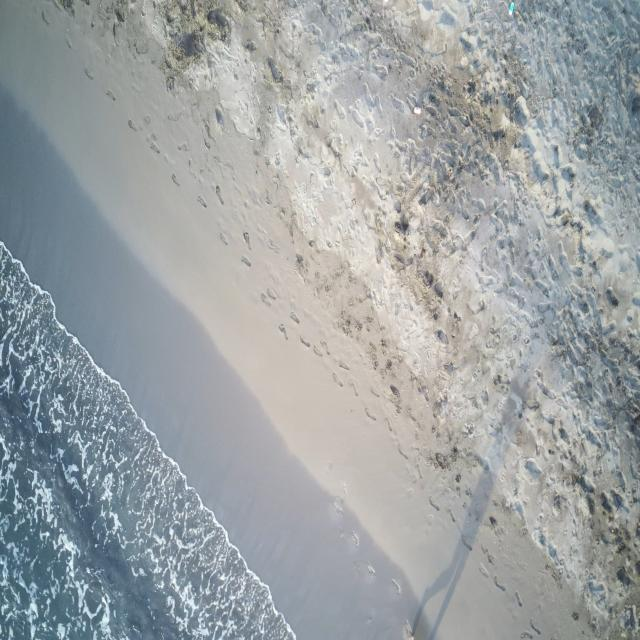tin-and-aluminum-cans: (508, 2, 516, 16), (414, 106, 423, 115)
